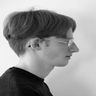ear: (27, 33, 46, 54)
